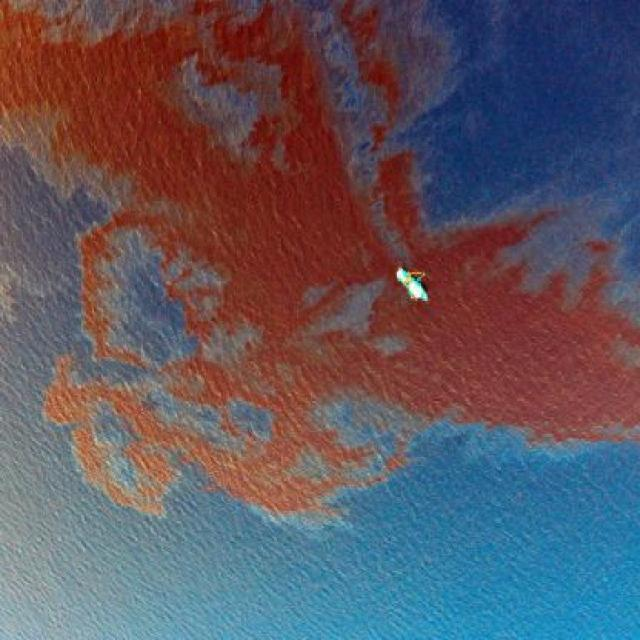truecolor: (0, 0, 640, 516)
